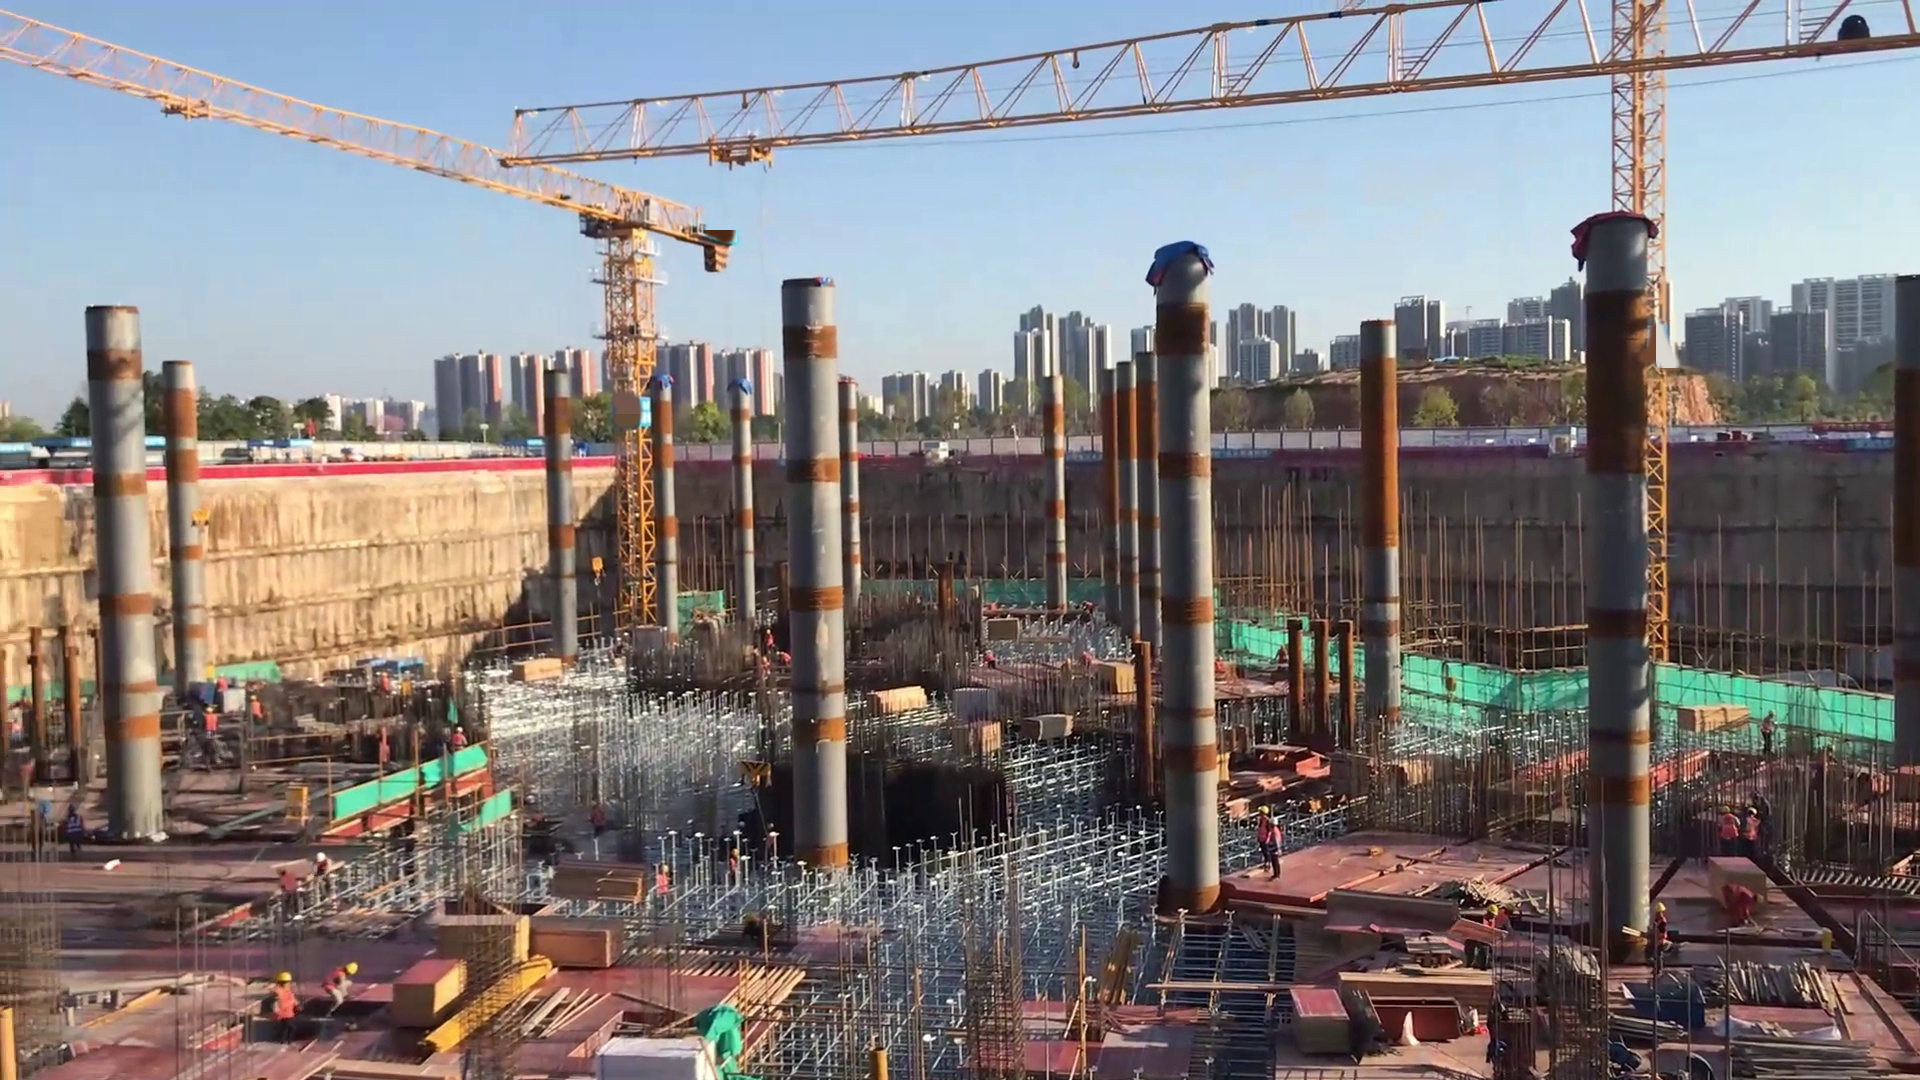board: (435, 909, 535, 977), (393, 954, 473, 1030), (1292, 987, 1351, 1058), (1096, 660, 1138, 697)
ebox: (284, 776, 318, 826)
helmet: (272, 968, 294, 986), (344, 958, 361, 976), (314, 848, 330, 868), (1652, 900, 1669, 917), (1718, 803, 1735, 818), (658, 863, 673, 878), (1503, 900, 1515, 918), (1750, 890, 1765, 904), (1267, 817, 1283, 831), (1746, 806, 1759, 820), (1487, 903, 1497, 921), (276, 862, 287, 876), (205, 704, 217, 715), (1259, 805, 1270, 818), (729, 848, 739, 863), (1767, 706, 1776, 717), (249, 693, 259, 702), (764, 627, 772, 636), (455, 726, 462, 735)
hook: (1622, 980, 1713, 1034), (184, 506, 222, 538), (584, 546, 606, 591)
person: (1469, 899, 1515, 973), (1633, 899, 1671, 979), (320, 958, 364, 1020), (1467, 896, 1500, 975), (254, 967, 297, 1029), (1722, 877, 1762, 935), (270, 860, 303, 923), (311, 852, 338, 909), (1716, 803, 1741, 862), (1741, 803, 1764, 863), (1268, 812, 1286, 886), (655, 859, 676, 913), (65, 798, 82, 862), (587, 794, 609, 841), (1255, 805, 1271, 871), (1761, 708, 1780, 760), (246, 691, 267, 736), (200, 704, 220, 746), (1813, 739, 1839, 769), (377, 668, 398, 706), (727, 847, 744, 886), (215, 667, 232, 705), (451, 725, 467, 762), (761, 624, 777, 660), (980, 646, 1000, 674), (777, 650, 795, 676), (1082, 599, 1097, 614)
slogan: (1208, 446, 1278, 462), (1853, 435, 1906, 452), (1069, 446, 1107, 464)
vest: (270, 989, 298, 1022), (1716, 813, 1741, 841), (62, 814, 83, 839), (1741, 817, 1762, 841)
wood: (1333, 969, 1501, 1014), (1723, 1034, 1878, 1080), (524, 912, 631, 976), (549, 855, 653, 910), (505, 654, 568, 701), (861, 682, 930, 725), (1680, 704, 1751, 736), (1016, 712, 1078, 746)
